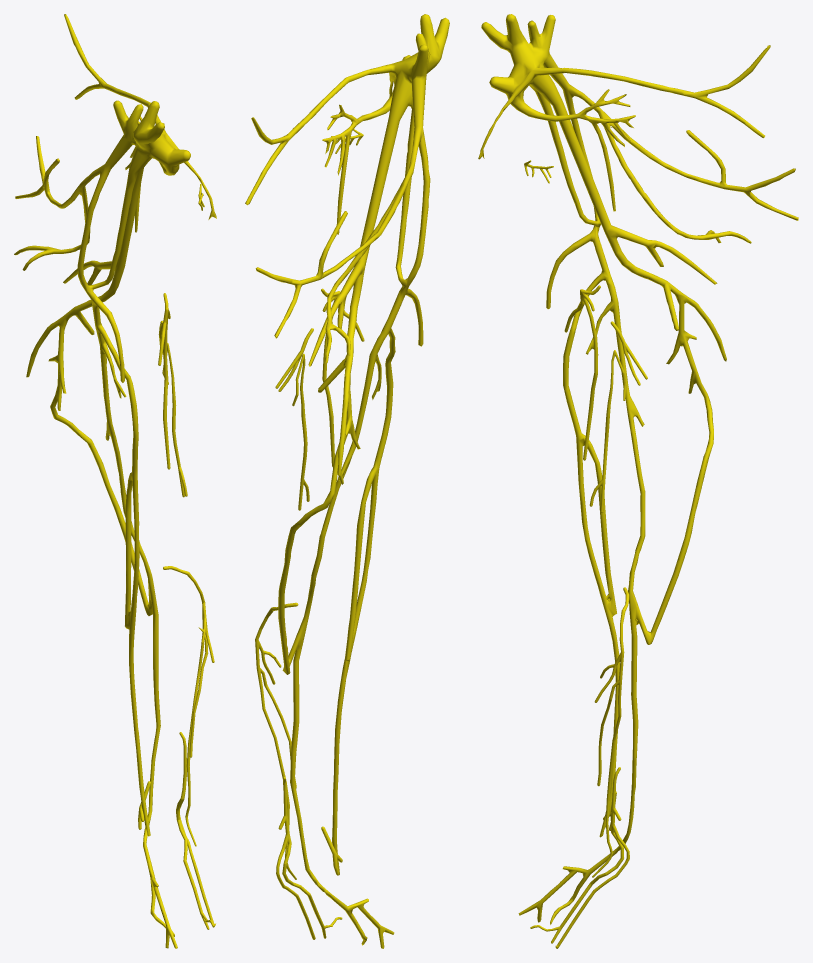
File: Nerves.glb
The picture shows the model from 3 angles, left to right: view 1: azimuth 30°, elevation 25°; view 2: azimuth 150°, elevation 25°; view 3: azimuth 270°, elevation 25°; orthographic projection. The views are drawn at different scales.
Visible parts, largest first — view 1: PM3D_nerves_3.001, PM3D_ZSphere3.001, PM3D_ZSphere2.001, PM3D_ZSphere1_3.001, PM3D_ZSphere1_2.001; view 2: PM3D_nerves_3.001, PM3D_ZSphere3.001, PM3D_ZSphere2.001, PM3D_ZSphere1_2.001, PM3D_ZSphere1_3.001; view 3: PM3D_nerves_3.001, PM3D_ZSphere3.001, PM3D_ZSphere2.001, PM3D_ZSphere1_3.001, PM3D_ZSphere1_2.001.
Boxes of the visible parts, box(x1,y1,x2,y2) form: PM3D_nerves_3.001: box(14, 14, 216, 948); PM3D_ZSphere3.001: box(163, 566, 214, 846); PM3D_ZSphere2.001: box(176, 732, 215, 929); PM3D_ZSphere1_3.001: box(158, 293, 170, 469); PM3D_ZSphere1_2.001: box(162, 342, 187, 497); PM3D_nerves_3.001: box(245, 14, 449, 948); PM3D_ZSphere3.001: box(255, 602, 298, 879); PM3D_ZSphere2.001: box(276, 777, 342, 939); PM3D_ZSphere1_2.001: box(292, 353, 309, 510); PM3D_ZSphere1_3.001: box(321, 288, 364, 466); PM3D_nerves_3.001: box(478, 14, 798, 924); PM3D_ZSphere3.001: box(592, 587, 629, 877); PM3D_ZSphere2.001: box(530, 767, 629, 948); PM3D_ZSphere1_3.001: box(564, 285, 600, 460); PM3D_ZSphere1_2.001: box(589, 350, 626, 513).
Bounding box in the file's own units: 0.2125 × 1.24 × 0.4034.
Materials: 8 (8 with a texture image).
